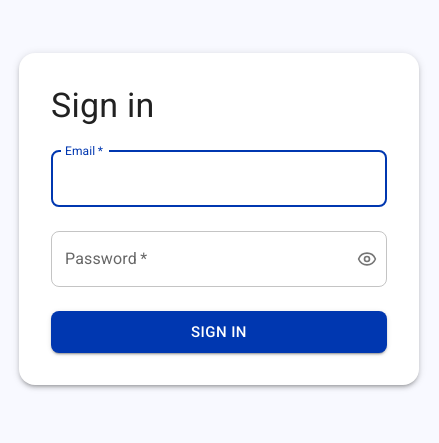
Login › falls back to a generic message when the API says nothing useful
Type "person@example.com" into the field labelled "Email *". click: x=219, y=179
box: [51, 151, 387, 207]
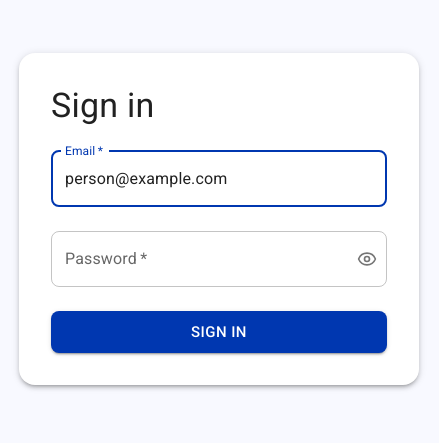
Type "secret123" into the password field labelled "Password *". click: x=196, y=259
box: [51, 231, 341, 287]
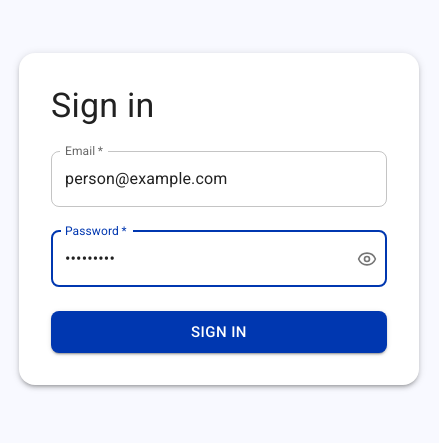
Click the button "Sign in". click: x=219, y=332
box: [51, 311, 387, 353]
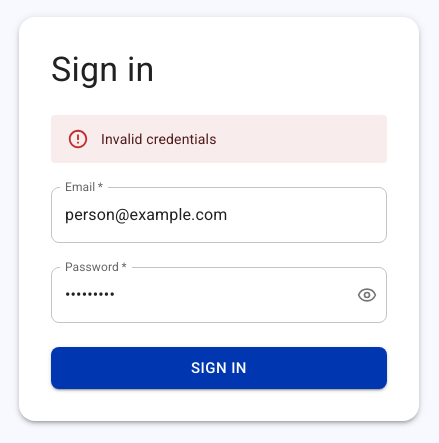
Now the message reads "Invalid credentials", box [101, 131, 216, 147]
